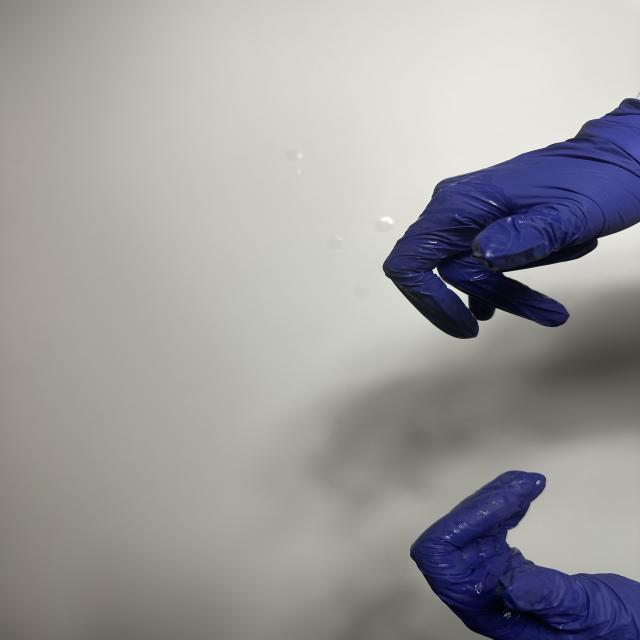gloves_contaminated: (383, 99, 640, 339), (410, 471, 640, 640)
